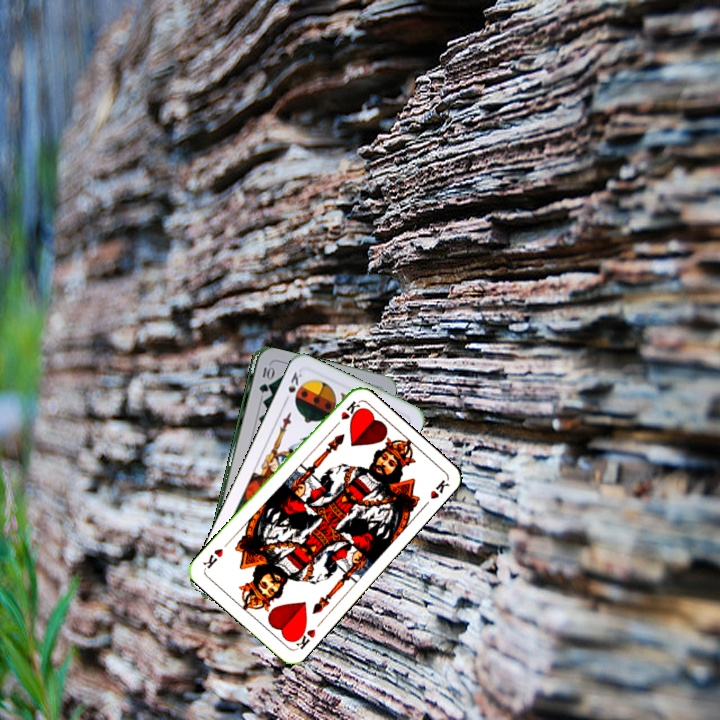G10: (255, 363, 273, 396)
HK: (329, 396, 362, 432), (288, 622, 318, 652)
SK: (280, 368, 305, 406)
